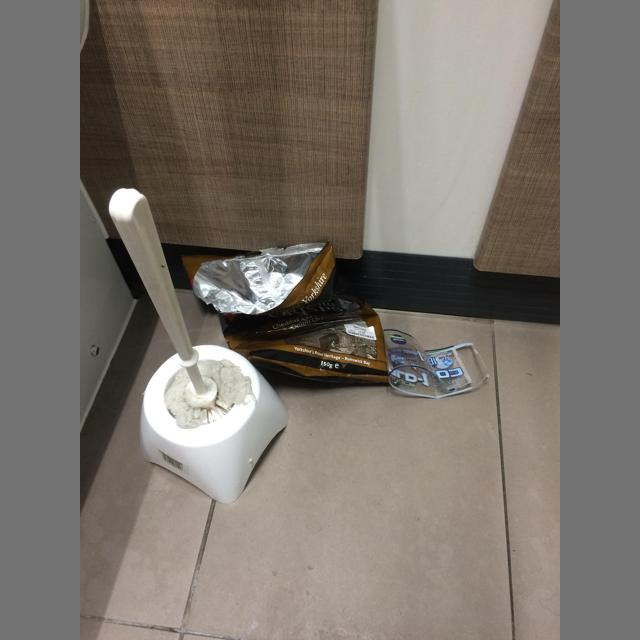litter: (182, 240, 389, 383), (384, 329, 490, 398), (165, 368, 218, 429), (197, 360, 257, 408)
